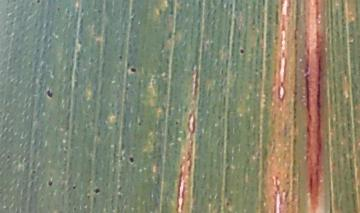tarspot: (46, 177, 54, 187), (45, 89, 53, 99), (129, 66, 138, 74), (70, 184, 78, 193), (238, 47, 246, 55), (93, 187, 101, 195), (223, 199, 231, 207), (128, 156, 135, 164), (173, 119, 180, 127), (117, 54, 124, 61), (79, 6, 85, 14), (55, 6, 61, 13), (64, 7, 70, 14), (137, 121, 143, 127), (31, 169, 38, 174), (6, 154, 11, 159), (35, 1, 41, 4)
